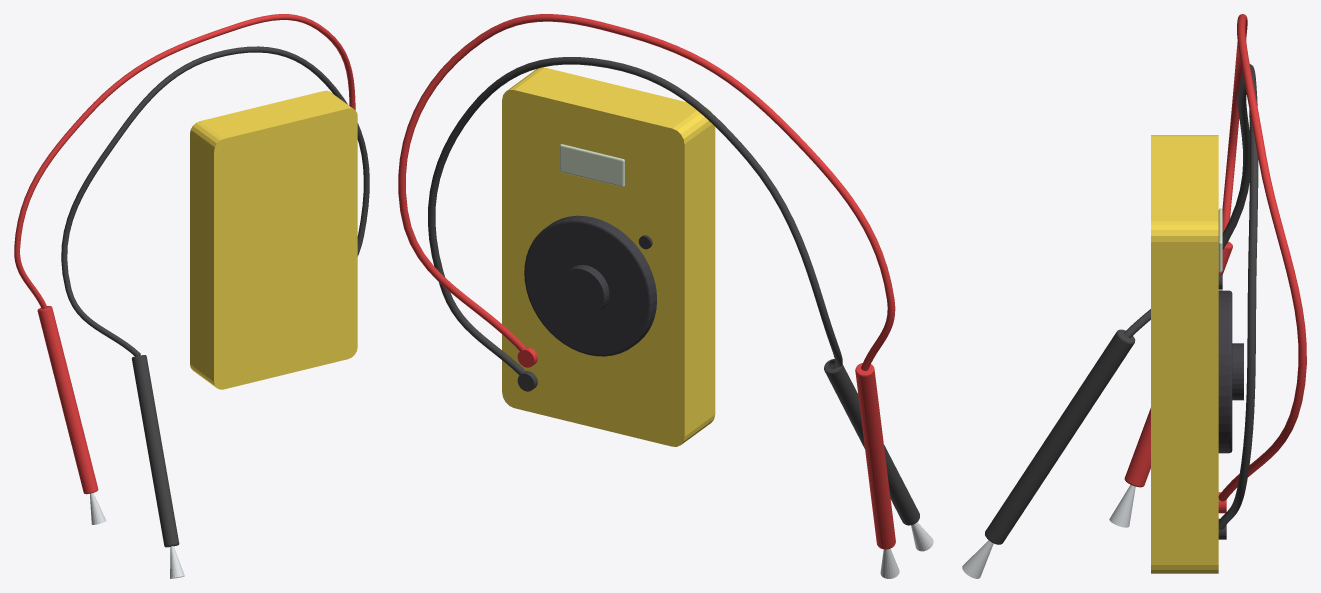
The model's file is tespen.fbx.
The picture shows the model from 3 angles, left to right: view 1: azimuth 30°, elevation 25°; view 2: azimuth 150°, elevation 25°; view 3: azimuth 270°, elevation 25°; orthographic projection. The views are drawn at different scales.
Visible parts, largest first — view 1: Multimeter_Body, Kabel_Hitam, Kabel_Merah, Probe_Hitam_Body, Probe_Merah_Body; view 2: Multimeter_Body, Knob, Kabel_Merah, Kabel_Hitam, Probe_Merah_Body, Probe_Hitam_Body, Knob_Center, LCD; view 3: Multimeter_Body, Kabel_Merah, Kabel_Hitam, Probe_Hitam_Body, Knob, Probe_Merah_Body, Knob_Center, Probe_Merah_Tip, Probe_Hitam_Tip.
Part boxes in pixels (left/top/right/bottom): Multimeter_Body: left=190, top=90, right=357, bottom=389; Kabel_Hitam: left=61, top=46, right=369, bottom=356; Kabel_Merah: left=14, top=14, right=355, bottom=308; Probe_Hitam_Body: left=131, top=355, right=179, bottom=547; Probe_Merah_Body: left=37, top=306, right=98, bottom=494; Multimeter_Body: left=502, top=67, right=715, bottom=446; Knob: left=524, top=215, right=656, bottom=356; Kabel_Merah: left=398, top=14, right=895, bottom=370; Kabel_Hitam: left=428, top=57, right=842, bottom=375; Probe_Merah_Body: left=855, top=363, right=895, bottom=549; Probe_Hitam_Body: left=824, top=359, right=919, bottom=525; Knob_Center: left=559, top=265, right=609, bottom=316; LCD: left=560, top=144, right=624, bottom=186; Multimeter_Body: left=1151, top=135, right=1218, bottom=573; Kabel_Merah: left=1218, top=14, right=1306, bottom=501; Kabel_Hitam: left=1124, top=64, right=1258, bottom=529; Probe_Hitam_Body: left=985, top=329, right=1135, bottom=544; Knob: left=1218, top=290, right=1232, bottom=453; Probe_Merah_Body: left=1124, top=241, right=1232, bottom=487; Knob_Center: left=1232, top=343, right=1243, bottom=400; Probe_Merah_Tip: left=1109, top=484, right=1135, bottom=527; Probe_Hitam_Tip: left=962, top=540, right=993, bottom=578.
Bounding box in the file's own units: 305 × 357 × 178.
